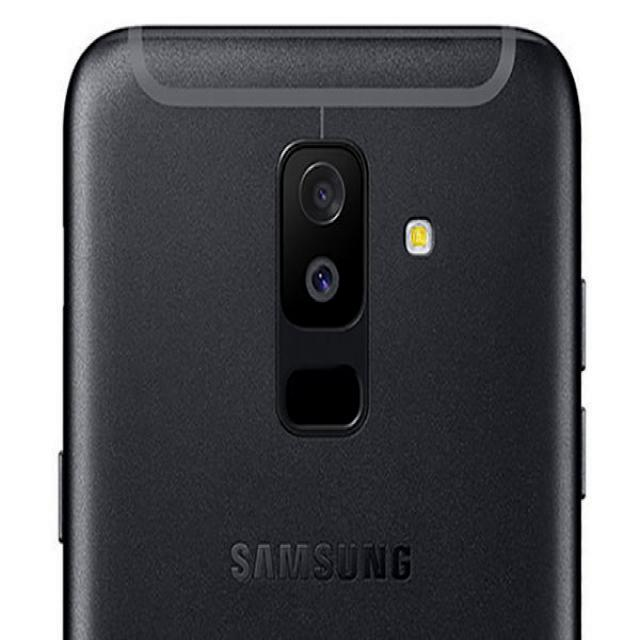lens_back: (294, 160, 349, 228), (301, 251, 344, 306)
phone: (56, 18, 580, 640)
